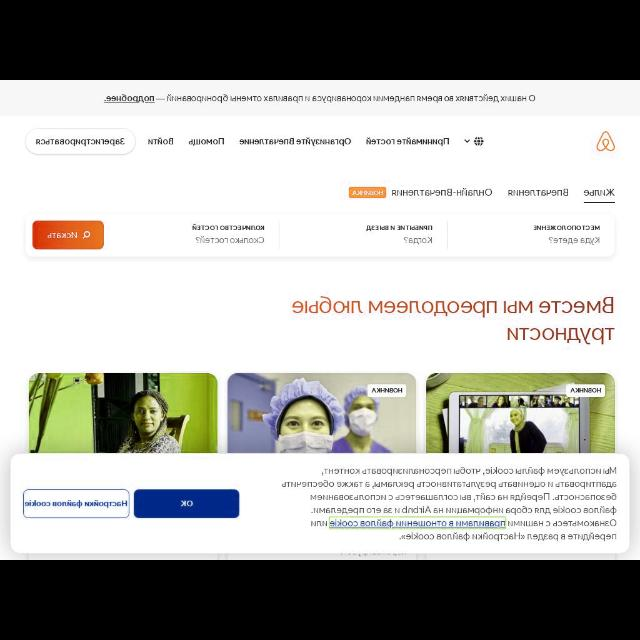icon: (596, 128, 618, 154), (473, 135, 485, 147), (82, 230, 91, 240), (464, 136, 472, 144)
iframe: (11, 454, 629, 552)
image: (427, 373, 617, 453), (228, 372, 417, 452), (30, 372, 216, 453)
input: (25, 216, 278, 258), (279, 216, 447, 258), (446, 216, 614, 256)
link: (329, 516, 505, 528)
multitab: (1, 164, 639, 208)
spinner: (462, 132, 486, 150)
text: (281, 466, 619, 542), (290, 294, 616, 344), (103, 94, 537, 105), (348, 188, 494, 200), (238, 136, 352, 148), (364, 136, 450, 148), (25, 499, 127, 508), (34, 136, 124, 146), (532, 222, 602, 234), (366, 222, 434, 234), (192, 236, 266, 247), (190, 222, 266, 232), (508, 186, 570, 198), (547, 234, 603, 246), (187, 135, 226, 149), (367, 384, 405, 396), (582, 186, 616, 198), (46, 229, 78, 241), (401, 234, 433, 246), (568, 386, 604, 396), (147, 136, 176, 148), (178, 498, 196, 508)
textbutton: (134, 489, 238, 518), (24, 490, 130, 518), (32, 220, 104, 250)
toolbar: (1, 122, 639, 164)
